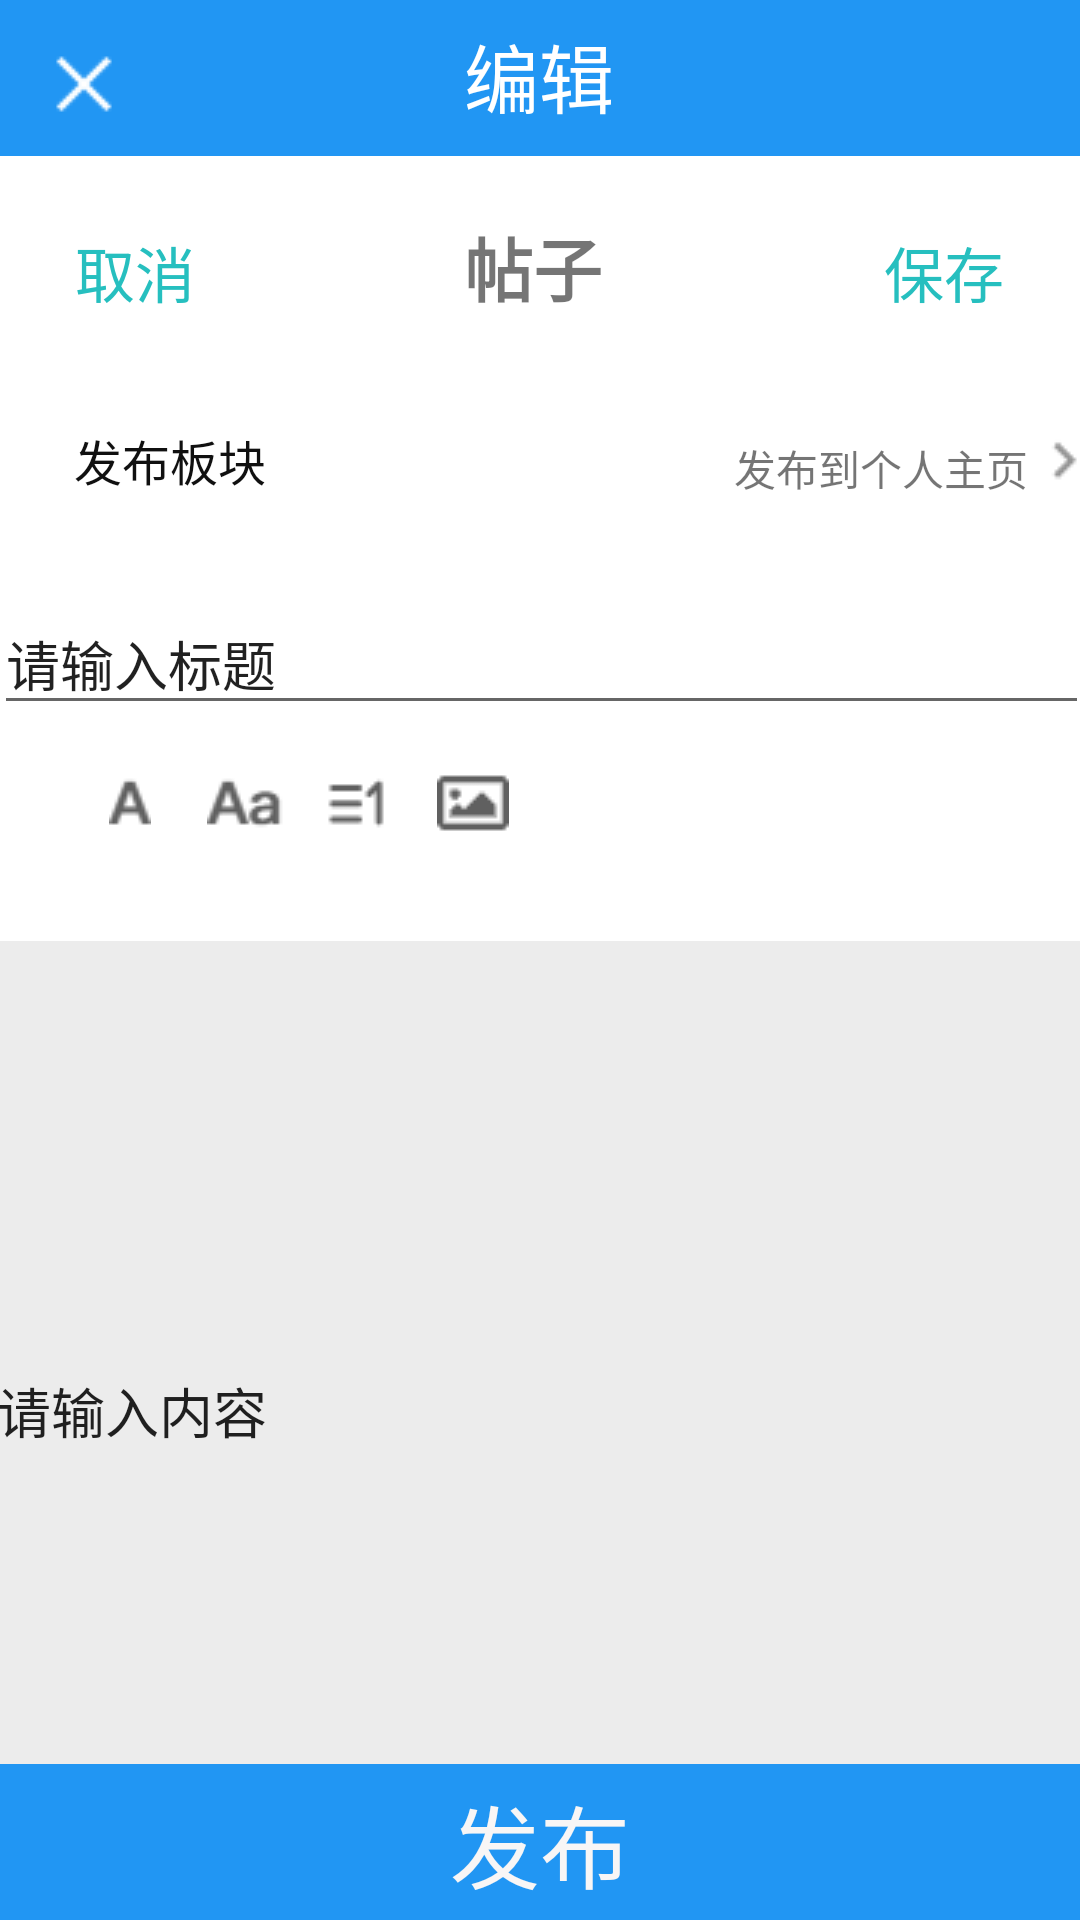

Icon bounding boxes for this 1080×1920 phone screenshot, format (x1, y1, x2, y2):
close: (56, 56, 112, 112)
editpic: (437, 775, 509, 831)
